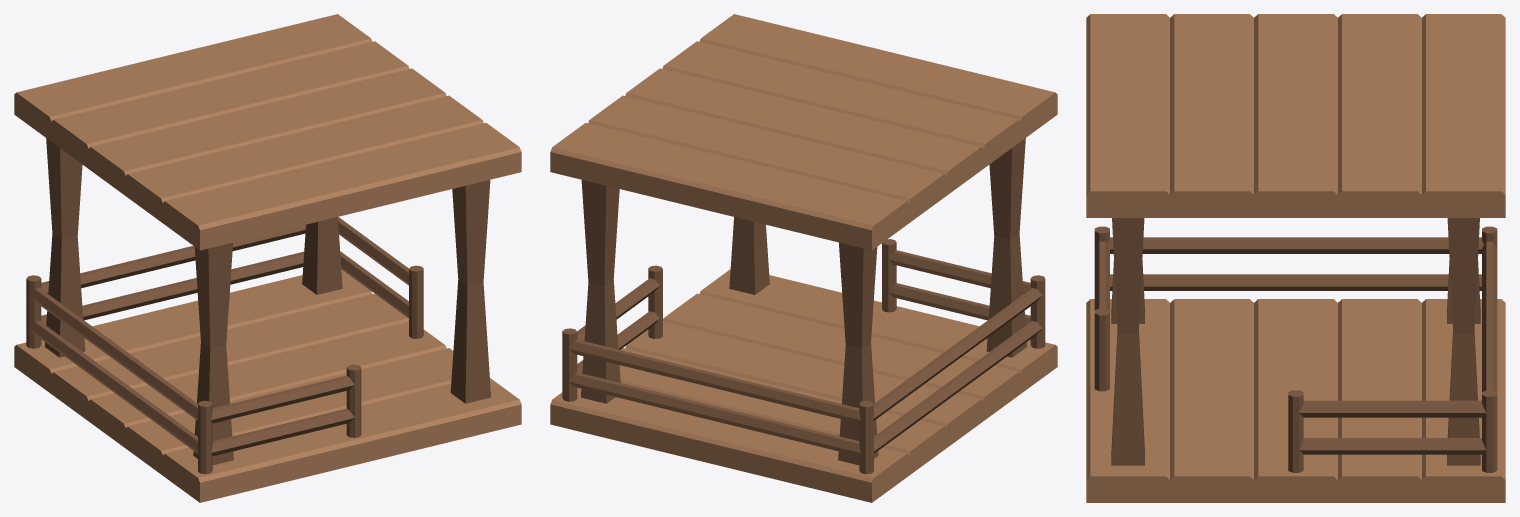
Rendered from BasicElevator_Corner_Cabin.fbx.
3 views of the same model, side by side, from view 1: azimuth 30°, elevation 25°; view 2: azimuth 150°, elevation 25°; view 3: azimuth 270°, elevation 25° (orthographic). The views are drawn at different scales.
Parts seen in each view (by area): view 1: BasicElevator_Corner_Cabin; view 2: BasicElevator_Corner_Cabin; view 3: BasicElevator_Corner_Cabin.
Boxes of the visible parts, left/top/right/bottom form: BasicElevator_Corner_Cabin: left=14, top=14, right=521, bottom=502; BasicElevator_Corner_Cabin: left=550, top=14, right=1057, bottom=502; BasicElevator_Corner_Cabin: left=1086, top=14, right=1505, bottom=502.
Bounding box in the file's own units: 500 × 410 × 500.
